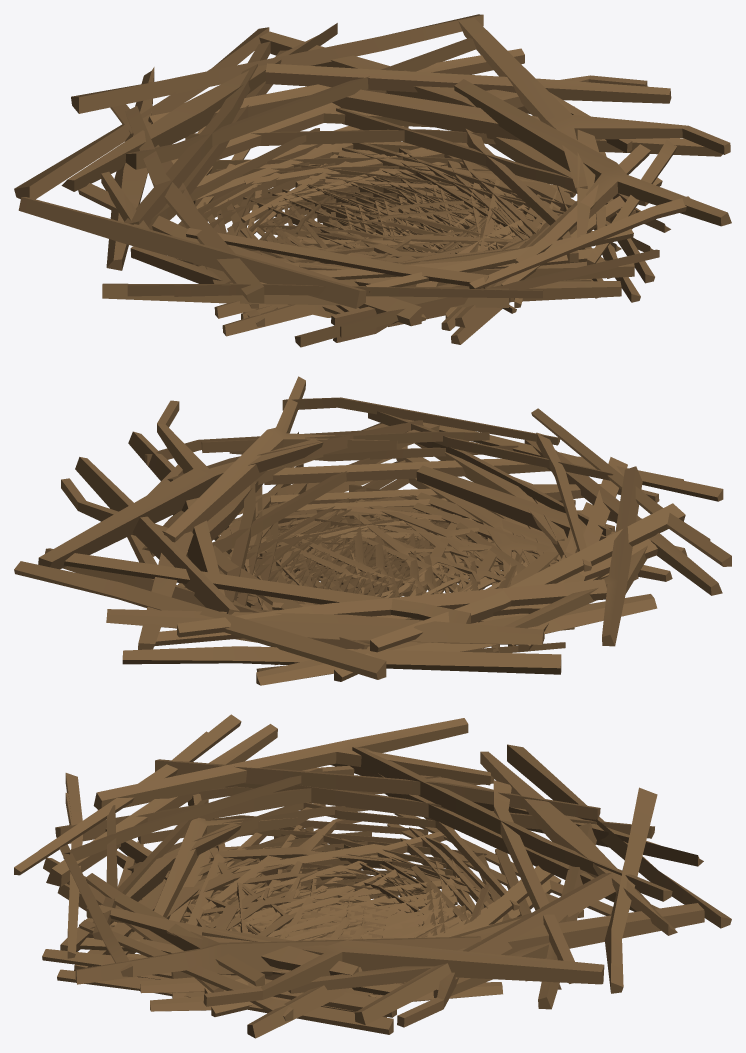
File: NEST.fbx
3 views of the same model, one above another, from view 1: azimuth 30°, elevation 25°; view 2: azimuth 150°, elevation 25°; view 3: azimuth 270°, elevation 25° (orthographic). The views are drawn at different scales.
Visible parts, largest first — view 1: pCube1 (×8), pCube14 (×4), pCube15 (×4), pCube2 (×5), pCube13 (×3), pCube11 (×4), pCube10 (×5), pCube12 (×4), twiglayer1, pCube3 (×4), pCube7 (×2), pCube4 (×2) (+8 smaller); view 2: pCube14 (×7), pCube13 (×2), pCube11 (×4), pCube15 (×5), pCube12 (×5), pCube10 (×5), pCube1 (×2), twiglayer1, pCube2 (×3), pCube5 (×2), pCube6 (×2), pCube7 (×2) (+15 smaller); view 3: pCube14 (×9), pCube1 (×3), pCube13 (×4), twiglayer1, pCube15 (×2), pCube11 (×4), pCube2 (×3), pCube10 (×2), pCube3 (×5), pCube7 (×5), pCube12 (×2), pCube5 (×3) (+15 smaller).
Part boxes in pixels (x1,y1,x2,y2): pCube1 (×8): (18, 93, 575, 308); pCube14 (×4): (193, 79, 731, 336); pCube15 (×4): (148, 48, 671, 344); pCube2 (×5): (78, 106, 495, 326); pCube13 (×3): (14, 14, 654, 283); pCube11 (×4): (61, 23, 670, 270); pCube10 (×5): (110, 41, 648, 283); pCube12 (×4): (125, 37, 610, 298); twiglayer1: (458, 18, 730, 191); pCube3 (×4): (183, 128, 597, 288); pCube7 (×2): (469, 139, 689, 288); pCube4 (×2): (174, 259, 618, 337); pCube14 (×7): (128, 376, 687, 595); pCube13 (×2): (14, 561, 561, 679); pCube11 (×4): (106, 432, 657, 685); pCube15 (×5): (45, 456, 582, 649); pCube12 (×5): (63, 447, 546, 646); pCube10 (×5): (177, 481, 657, 681); pCube1 (×2): (504, 440, 722, 646); twiglayer1: (38, 400, 323, 569); pCube2 (×3): (212, 457, 685, 652); pCube5 (×2): (406, 408, 731, 566); pCube6 (×2): (229, 411, 613, 480); pCube7 (×2): (144, 397, 560, 465); pCube14 (×9): (75, 793, 529, 1038); pCube1 (×3): (46, 718, 561, 989); pCube13 (×4): (42, 744, 731, 1034); twiglayer1: (202, 926, 604, 1006); pCube15 (×2): (288, 823, 615, 1025); pCube11 (×4): (140, 751, 703, 1011); pCube2 (×3): (55, 759, 600, 994); pCube10 (×2): (225, 747, 672, 901); pCube3 (×5): (63, 768, 519, 934); pCube7 (×5): (59, 815, 446, 1021); pCube12 (×2): (374, 773, 675, 983); pCube5 (×3): (14, 714, 612, 958).
Size of the model in its own units: 4.42 by 0.5202 by 4.41.
